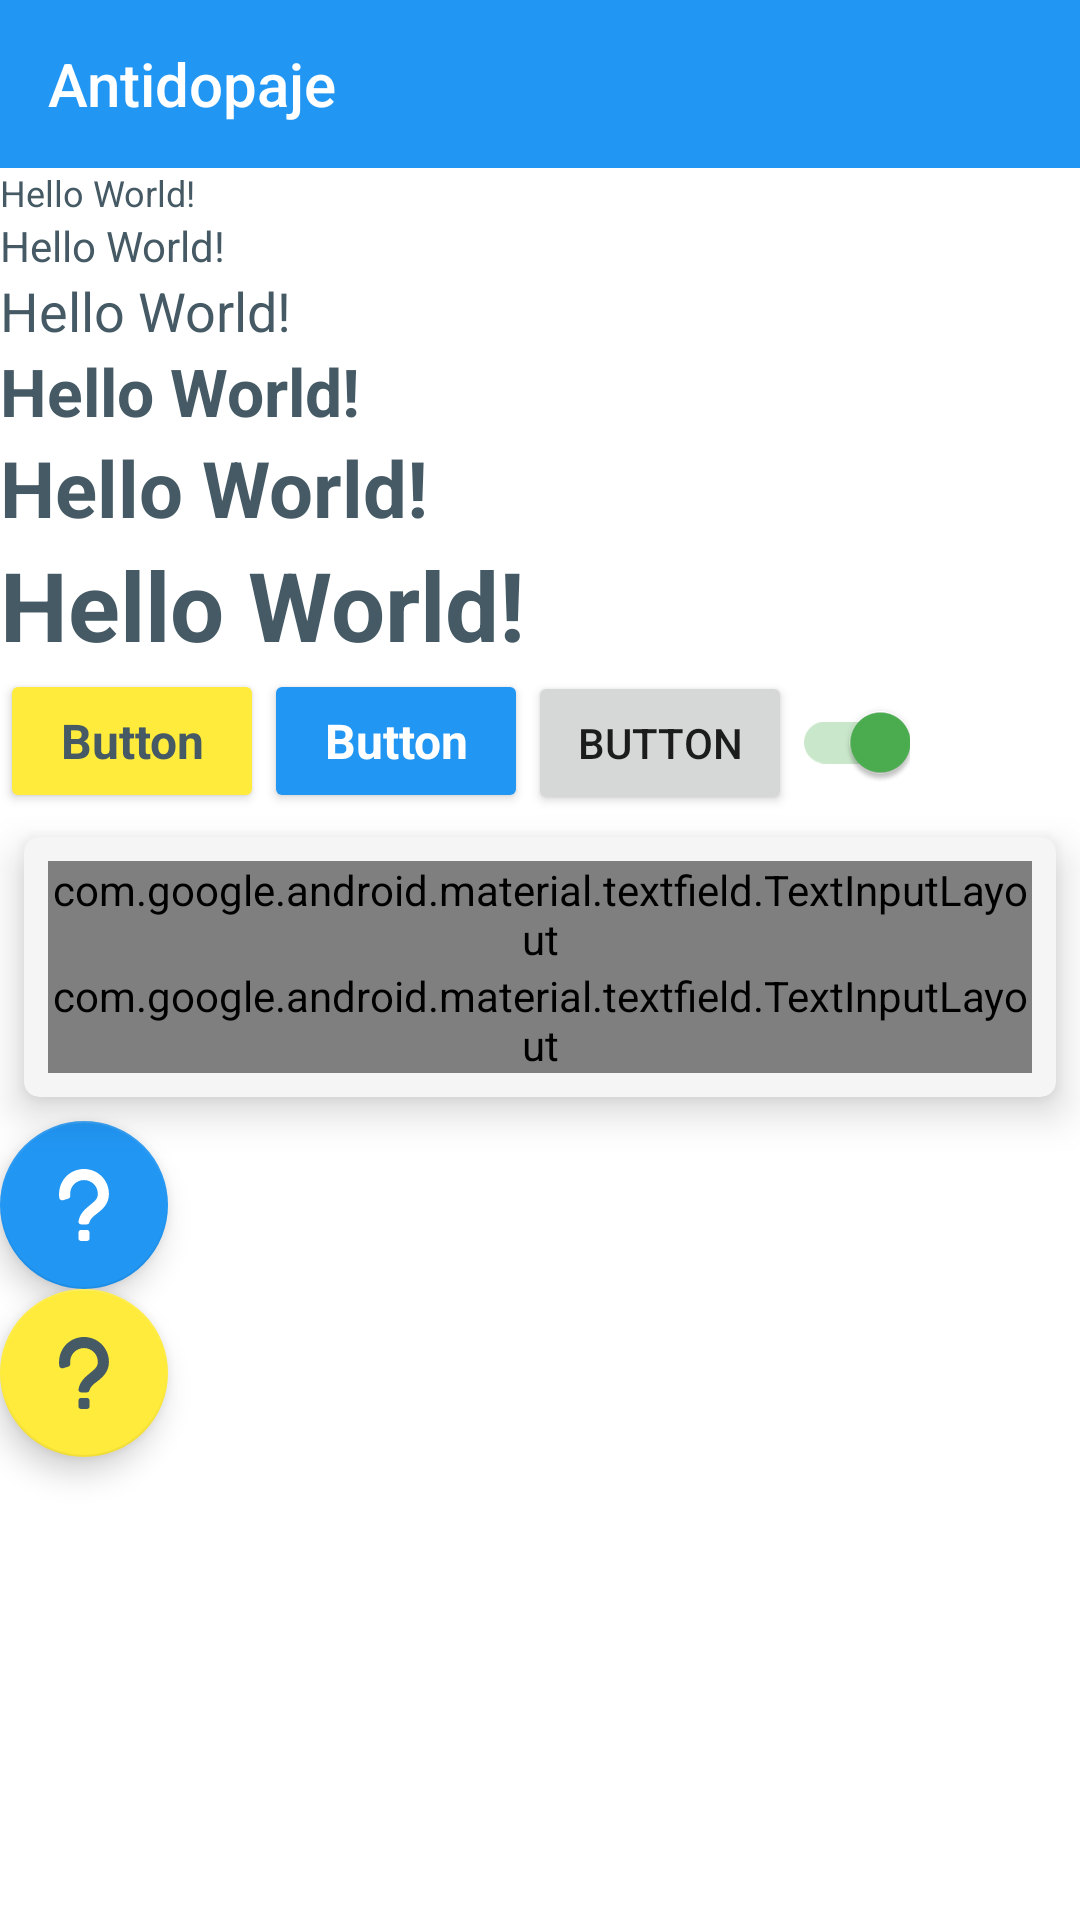

Screen size 1080×1920. Icon name, then its center in pixels as (x=x, y=y):
question: (x=84, y=1205), (x=84, y=1373)
